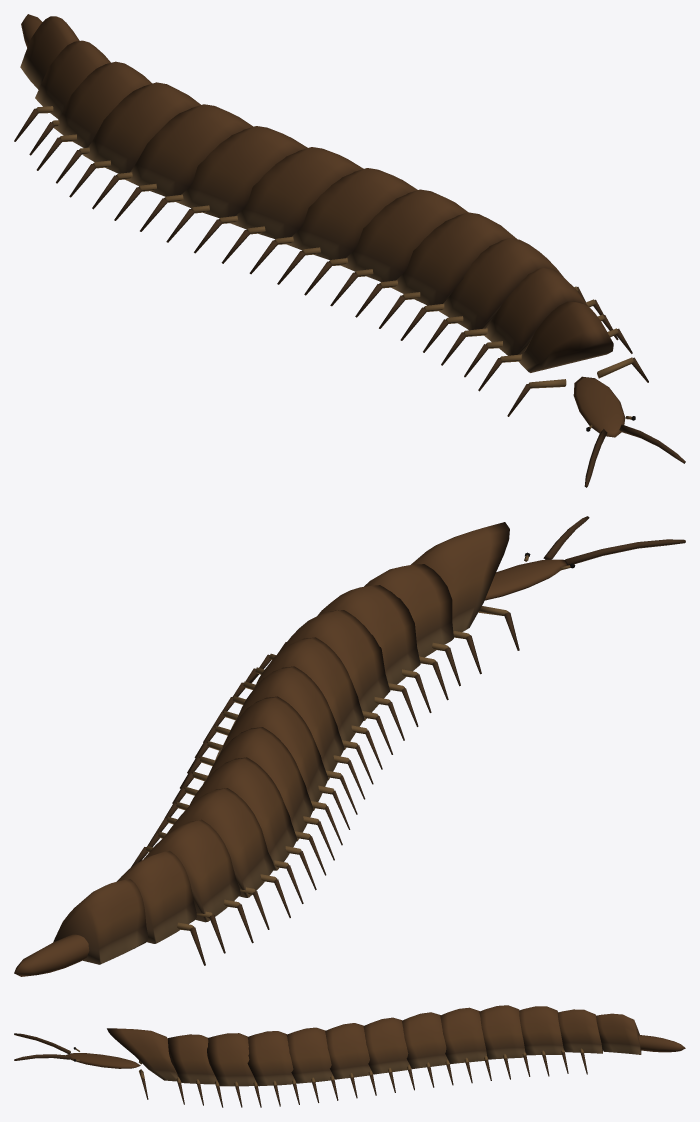
Rendered from KampecarisObanensis.fbx.
3 views of the same model, one above another, from view 1: azimuth 30°, elevation 25°; view 2: azimuth 150°, elevation 25°; view 3: azimuth 270°, elevation 25° (orthographic). The views are drawn at different scales.
Visible parts, largest first — view 1: KampecarisObanensis; view 2: KampecarisObanensis; view 3: KampecarisObanensis.
Part boxes in pixels (x1,y1,x2,y2): KampecarisObanensis: [14, 14, 685, 487]; KampecarisObanensis: [14, 516, 685, 976]; KampecarisObanensis: [14, 1005, 685, 1107].
Size of the model in its own units: 0.4937 by 0.1679 by 1.93.
